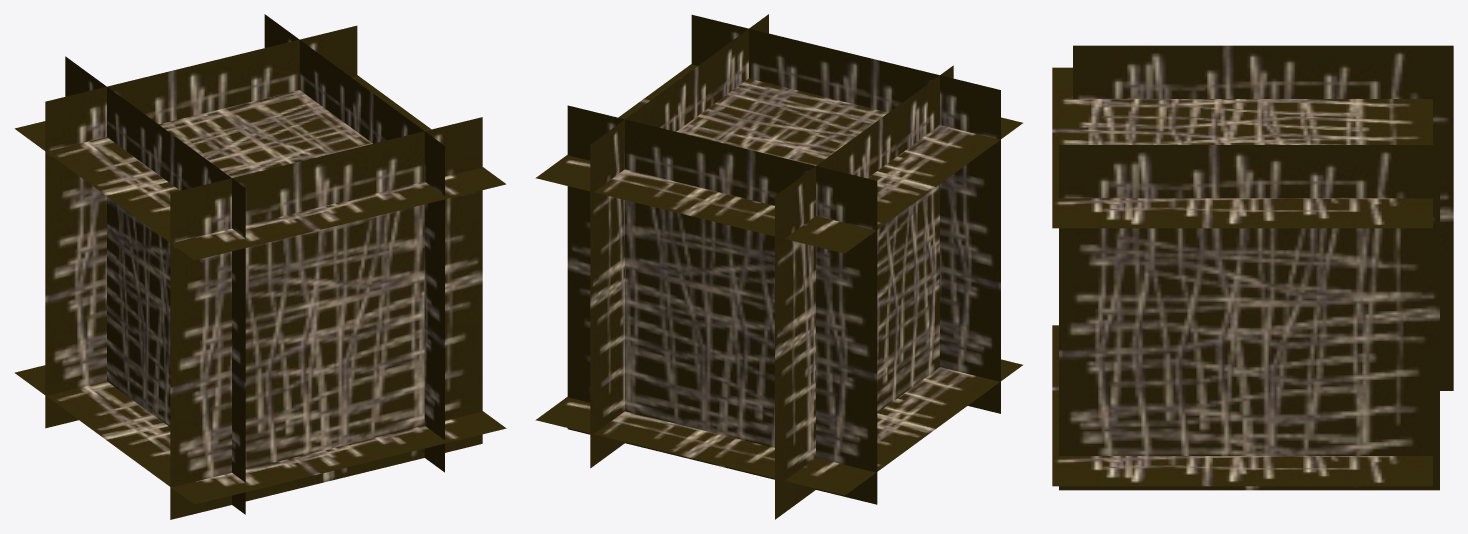
The model's file is ChickenCage.fbx.
3 views of the same model, side by side, from view 1: azimuth 30°, elevation 25°; view 2: azimuth 150°, elevation 25°; view 3: azimuth 270°, elevation 25° (orthographic). The views are drawn at different scales.
Visible parts, largest first — view 1: cage5, cage6, cage1, cage3, cage2, cage4; view 2: cage6, cage3, cage5, cage1, cage4, cage2; view 3: cage4, cage1, cage3, cage2.
Part boxes in pixels (left/top/right/bottom): cage5: left=170, top=117, right=482, bottom=519; cage6: left=45, top=25, right=357, bottom=428; cage1: left=14, top=75, right=505, bottom=260; cage3: left=65, top=56, right=245, bottom=514; cage2: left=14, top=365, right=506, bottom=504; cage4: left=264, top=14, right=444, bottom=472; cage6: left=567, top=105, right=877, bottom=504; cage3: left=775, top=65, right=953, bottom=519; cage5: left=691, top=15, right=1000, bottom=413; cage1: left=535, top=64, right=1022, bottom=253; cage4: left=590, top=14, right=768, bottom=468; cage2: left=535, top=359, right=1022, bottom=495; cage4: left=1059, top=145, right=1439, bottom=490; cage1: left=1052, top=67, right=1432, bottom=228; cage3: left=1073, top=45, right=1453, bottom=390; cage2: left=1052, top=325, right=1432, bottom=486.
Size of the model in its own units: 294 by 293 by 309.
Materials: 1 (1 with a texture image).
